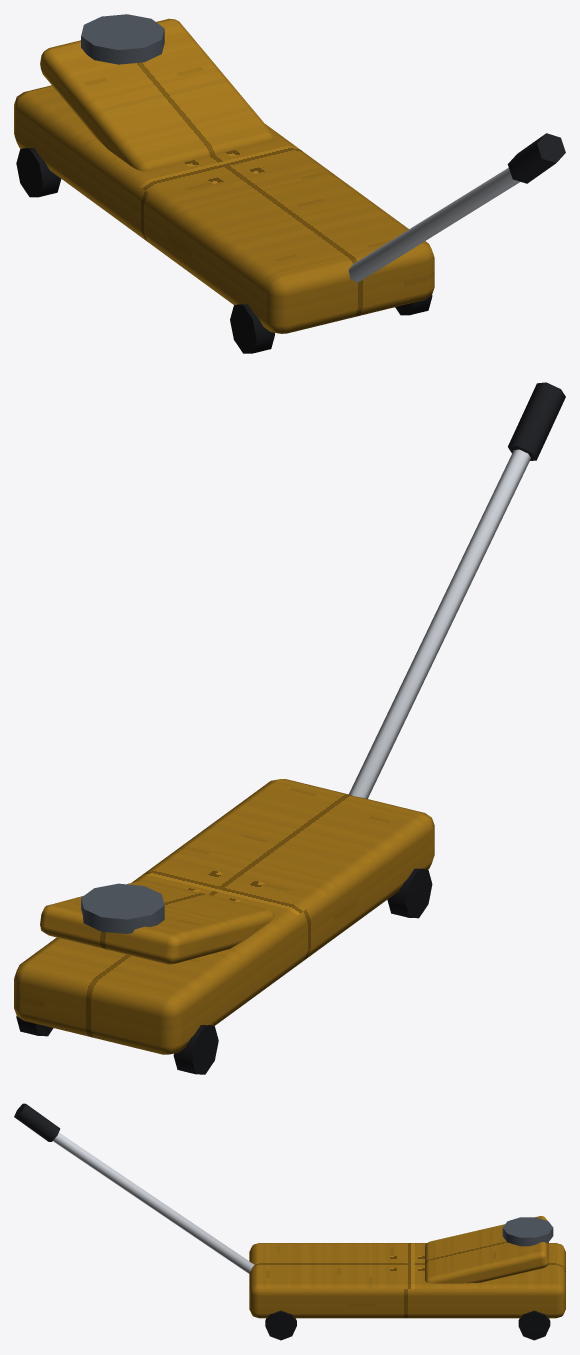
File: macaco_jacare.glb
The picture shows the model from 3 angles, top to bottom: view 1: azimuth 30°, elevation 25°; view 2: azimuth 150°, elevation 25°; view 3: azimuth 270°, elevation 25°; orthographic projection. The views are drawn at different scales.
Parts seen in each view (by area): view 1: macaco_jacare_metal, macaco_jacare; view 2: macaco_jacare_metal, macaco_jacare; view 3: macaco_jacare_metal, macaco_jacare.
Part boxes in pixels (x1,y1,x2,y2): macaco_jacare_metal: (14, 18, 434, 333); macaco_jacare: (16, 14, 565, 353); macaco_jacare_metal: (14, 779, 434, 1054); macaco_jacare: (16, 382, 565, 1074); macaco_jacare_metal: (249, 1216, 565, 1318); macaco_jacare: (14, 1103, 553, 1340).
Size of the model in its own units: 0.38 by 0.737 by 1.74.
2 materials, 1 textured.
